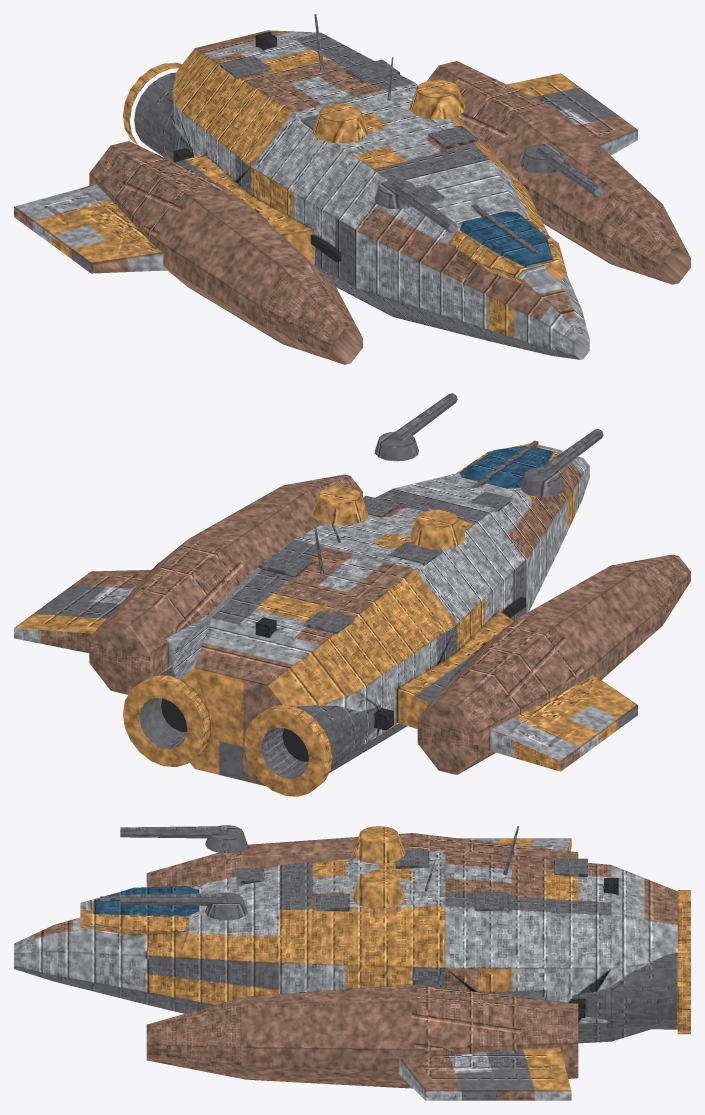
Rendered from sd_npc_corvette.glb.
The picture shows the model from 3 angles, top to bottom: view 1: azimuth 30°, elevation 25°; view 2: azimuth 150°, elevation 25°; view 3: azimuth 270°, elevation 25°; orthographic projection. The views are drawn at different scales.
Visible parts, largest first — view 1: LOD0_body, LOD1_body; view 2: LOD0_body, LOD1_body; view 3: LOD0_body, LOD1_body.
Boxes of the visible parts, x1,y1,x2,y2 form: LOD0_body: (14,14,690,364); LOD1_body: (14,15,661,347); LOD0_body: (14,393,690,796); LOD1_body: (14,427,679,778); LOD0_body: (14,825,690,1100); LOD1_body: (37,826,690,1100).
Bounding box in the file's own units: 0.8824 × 0.32 × 1.
1 material, 1 textured.
